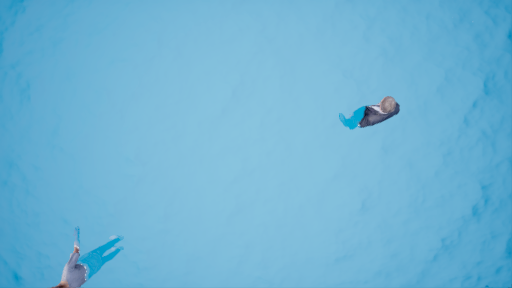person: (57, 222, 130, 288), (338, 90, 405, 135)
